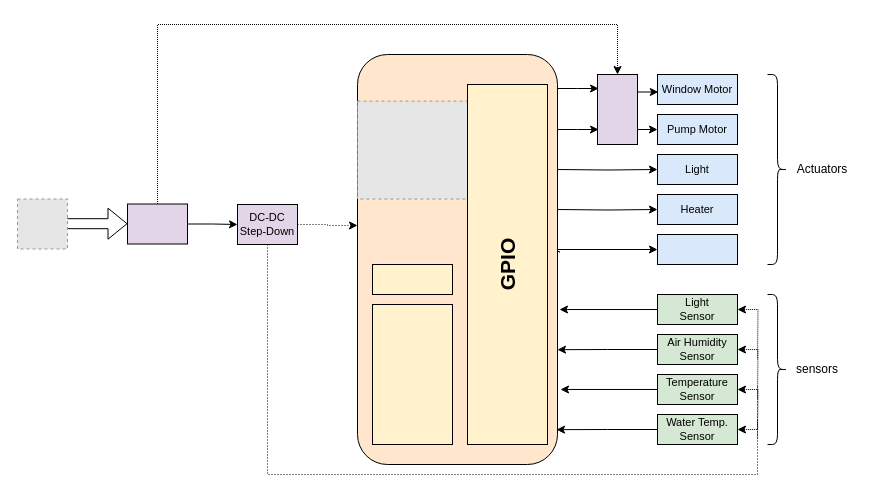
Some shapes in this 870 by 493 pixel diagram are drawn without their labels. Grey dashed boxes stand in for pictures. Each missing label, with the box of its shape:
AC-DC converter: (126, 203, 188, 244)
ARM Cortex-A72: (372, 304, 452, 444)
Camera: (656, 234, 738, 264)
H bridge: (596, 74, 638, 144)
WI-FI Module: (372, 264, 452, 294)
